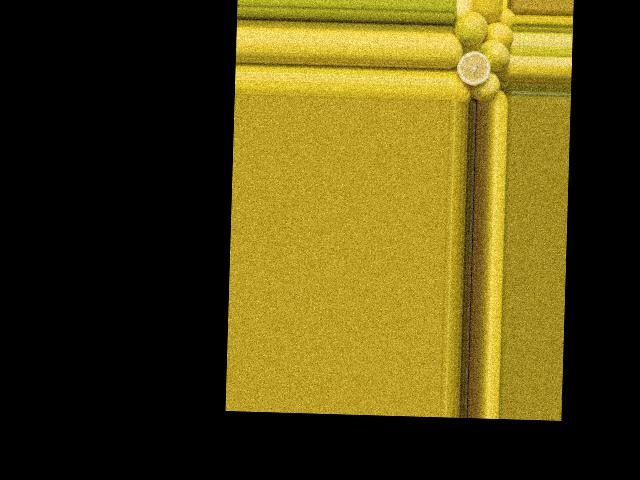lemon: (472, 74, 499, 100)
